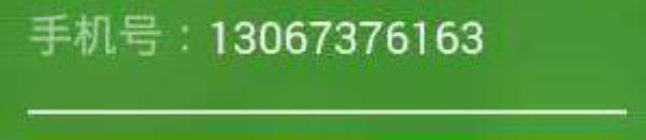EditText: (1, 1, 645, 139)
